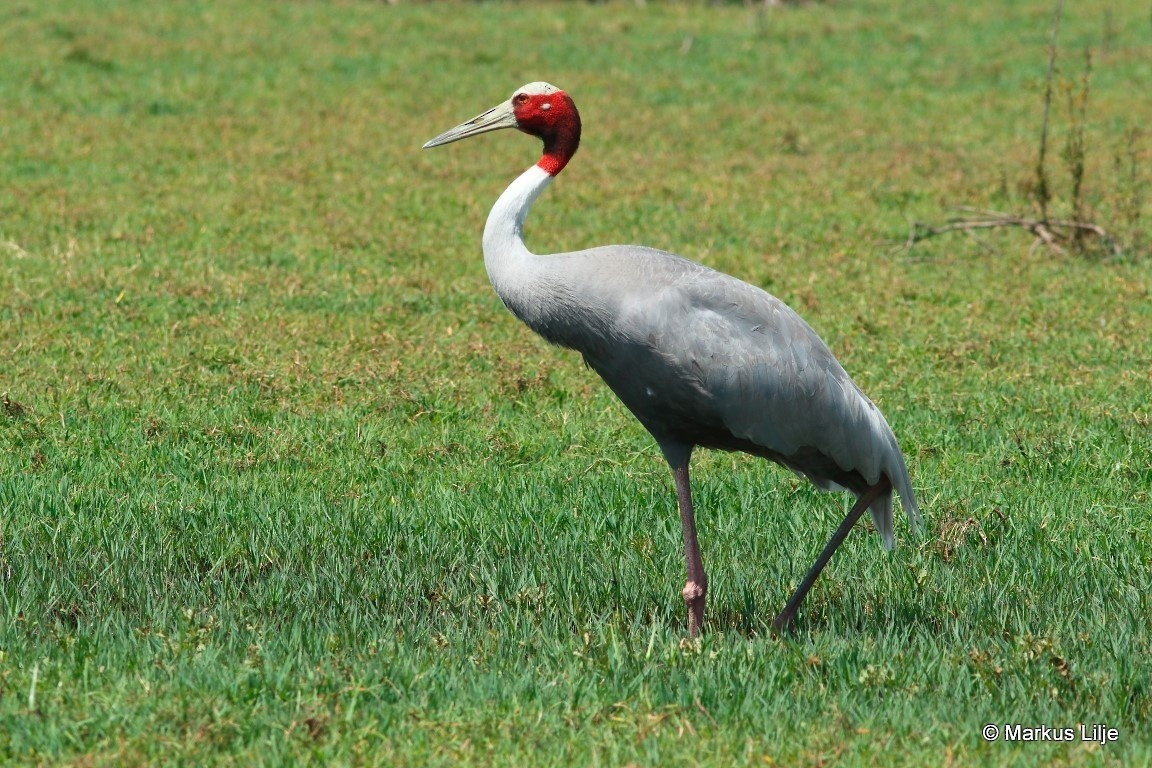crane: (422, 69, 957, 644)
